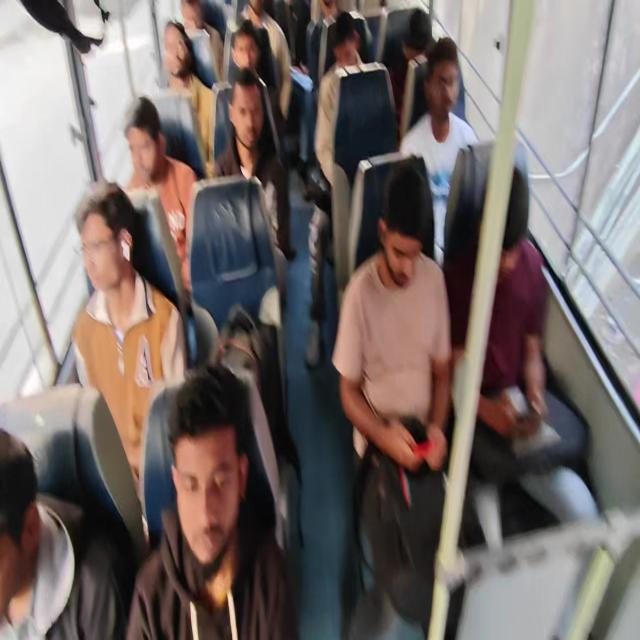person: (41, 1, 602, 637), (331, 162, 455, 637), (447, 160, 599, 536), (125, 363, 298, 638), (71, 181, 187, 516), (304, 11, 398, 370), (0, 427, 125, 639), (399, 37, 480, 267), (212, 66, 296, 262), (123, 94, 199, 294), (314, 11, 397, 188), (162, 20, 217, 166), (226, 19, 282, 155), (238, 0, 292, 121), (384, 8, 434, 121), (179, 0, 225, 88), (305, 0, 339, 88)
